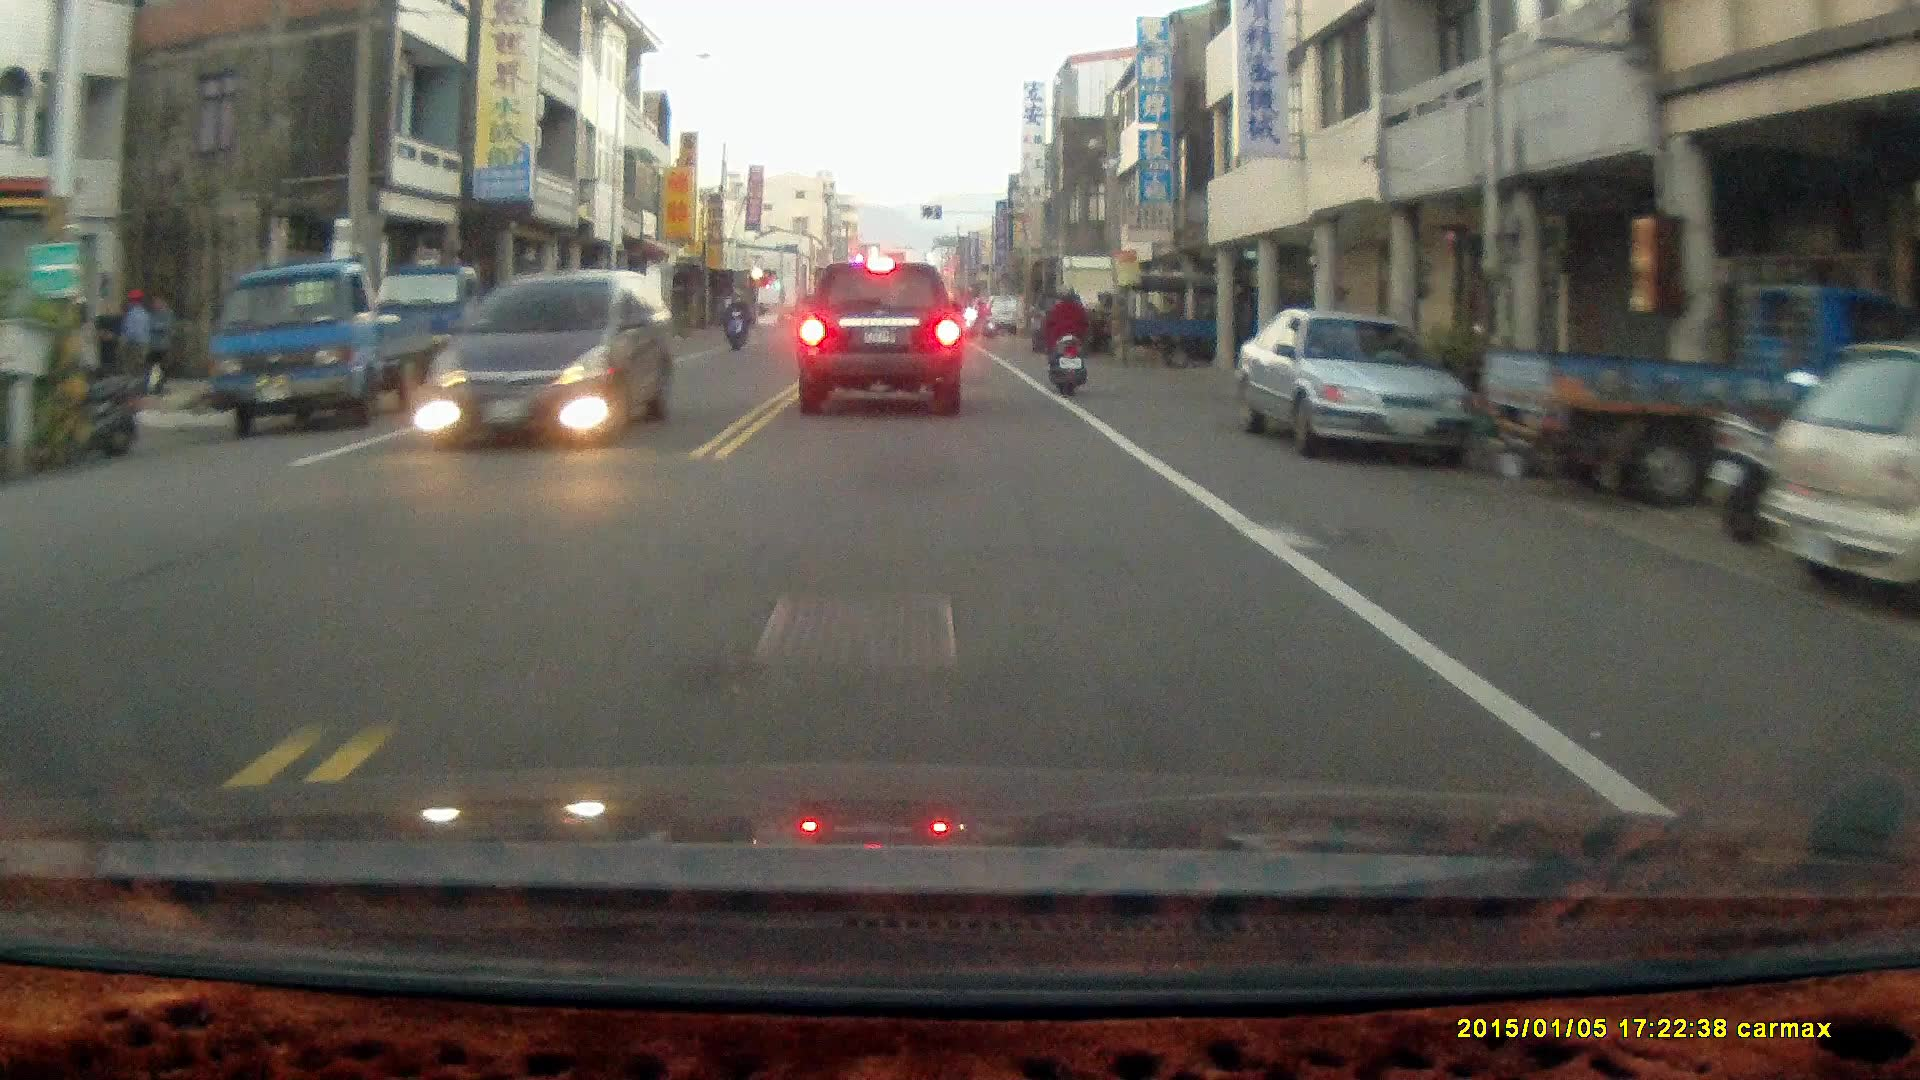pedestrian: (118, 287, 150, 402), (146, 291, 178, 398), (90, 296, 123, 392)
rider: (1042, 283, 1089, 398), (721, 294, 750, 352), (963, 298, 998, 342)
vehicle: (1478, 275, 1872, 507), (1752, 336, 1920, 609), (431, 271, 676, 450), (206, 260, 445, 437), (1237, 312, 1472, 462), (794, 260, 965, 424), (374, 252, 535, 372), (1123, 274, 1306, 368)
